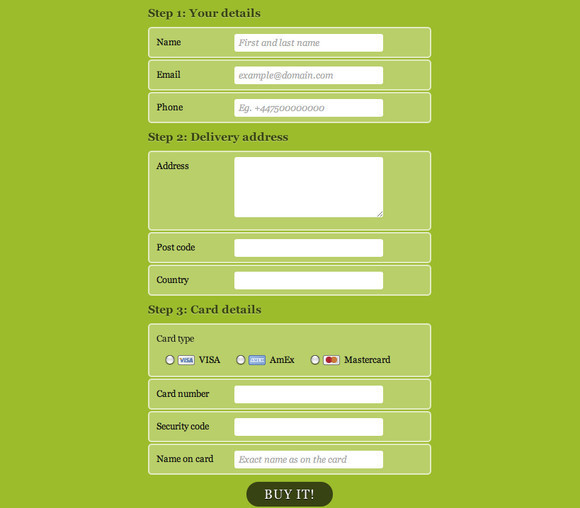_form_: (101, 2, 517, 418), (90, 92, 506, 508)
button: (246, 481, 333, 508)
field: (231, 155, 387, 219), (231, 383, 387, 405), (231, 415, 385, 437), (232, 237, 385, 259), (231, 449, 387, 470), (232, 64, 386, 85), (232, 32, 384, 53), (231, 97, 386, 117), (232, 271, 385, 289)
field_with_label: (156, 153, 389, 220), (156, 413, 388, 439), (157, 234, 387, 260), (156, 447, 390, 472), (156, 62, 389, 87), (157, 381, 388, 406), (156, 30, 387, 54), (156, 96, 388, 119), (157, 268, 387, 291)
radio: (163, 354, 175, 367), (310, 355, 321, 365), (236, 355, 244, 364)
radio_with_label: (308, 352, 391, 368), (160, 351, 220, 368), (233, 352, 296, 367)
